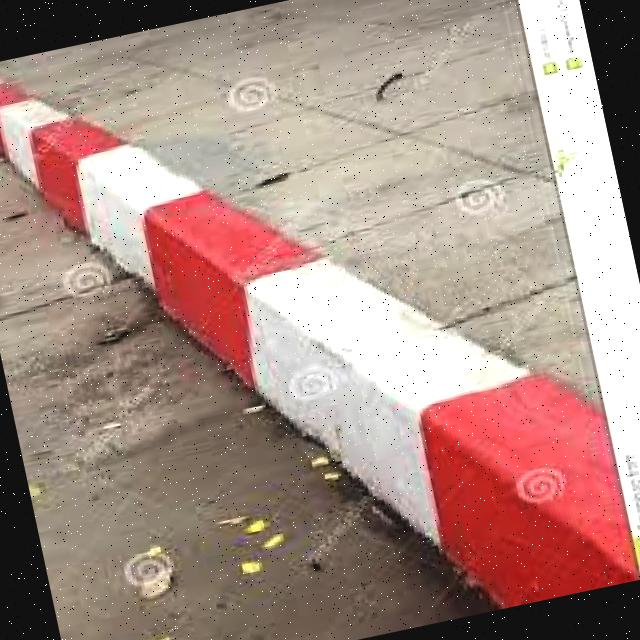curb: (1, 78, 638, 610)
